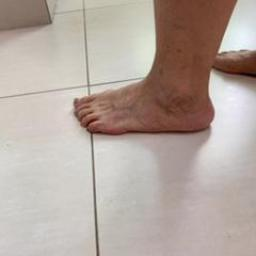Lateral View -Left Foot-: (53, 52, 238, 143)
